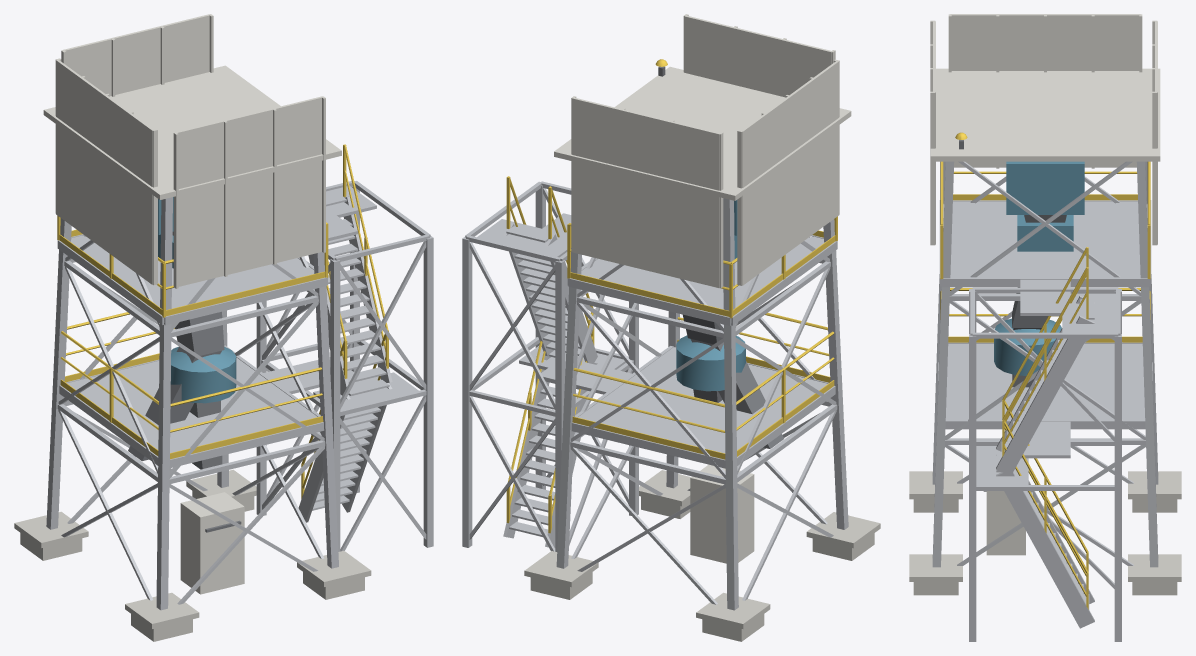
The model's file is ore-processing-and-haulage-plant-sample-tower-aca717ad.glb.
3 views of the same model, side by side, from view 1: azimuth 30°, elevation 25°; view 2: azimuth 150°, elevation 25°; view 3: azimuth 270°, elevation 25° (orthographic).
Parts seen in each view (by area): view 1: sample-tower; view 2: sample-tower; view 3: sample-tower.
Part boxes in pixels (x1,y1,x2,y2): sample-tower: (14, 14, 433, 641); sample-tower: (462, 14, 880, 641); sample-tower: (909, 14, 1181, 641).
Size of the model in its own units: 6.35 by 9.6 by 4.86.
